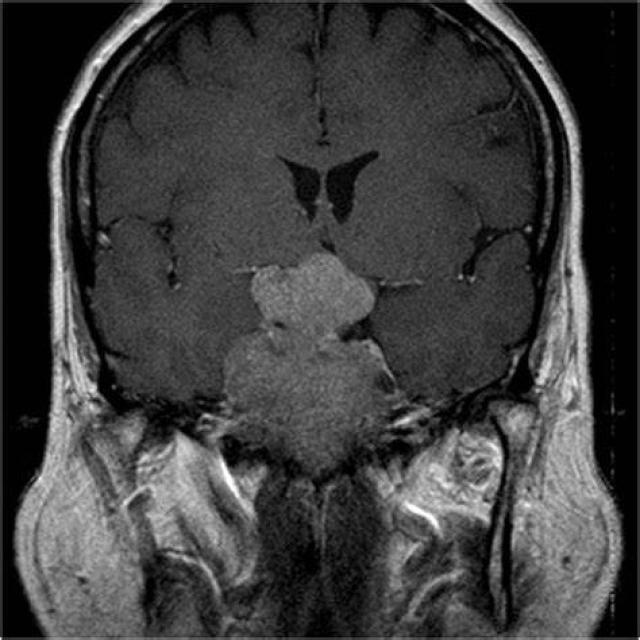brain_tumor: (223, 254, 410, 470)
